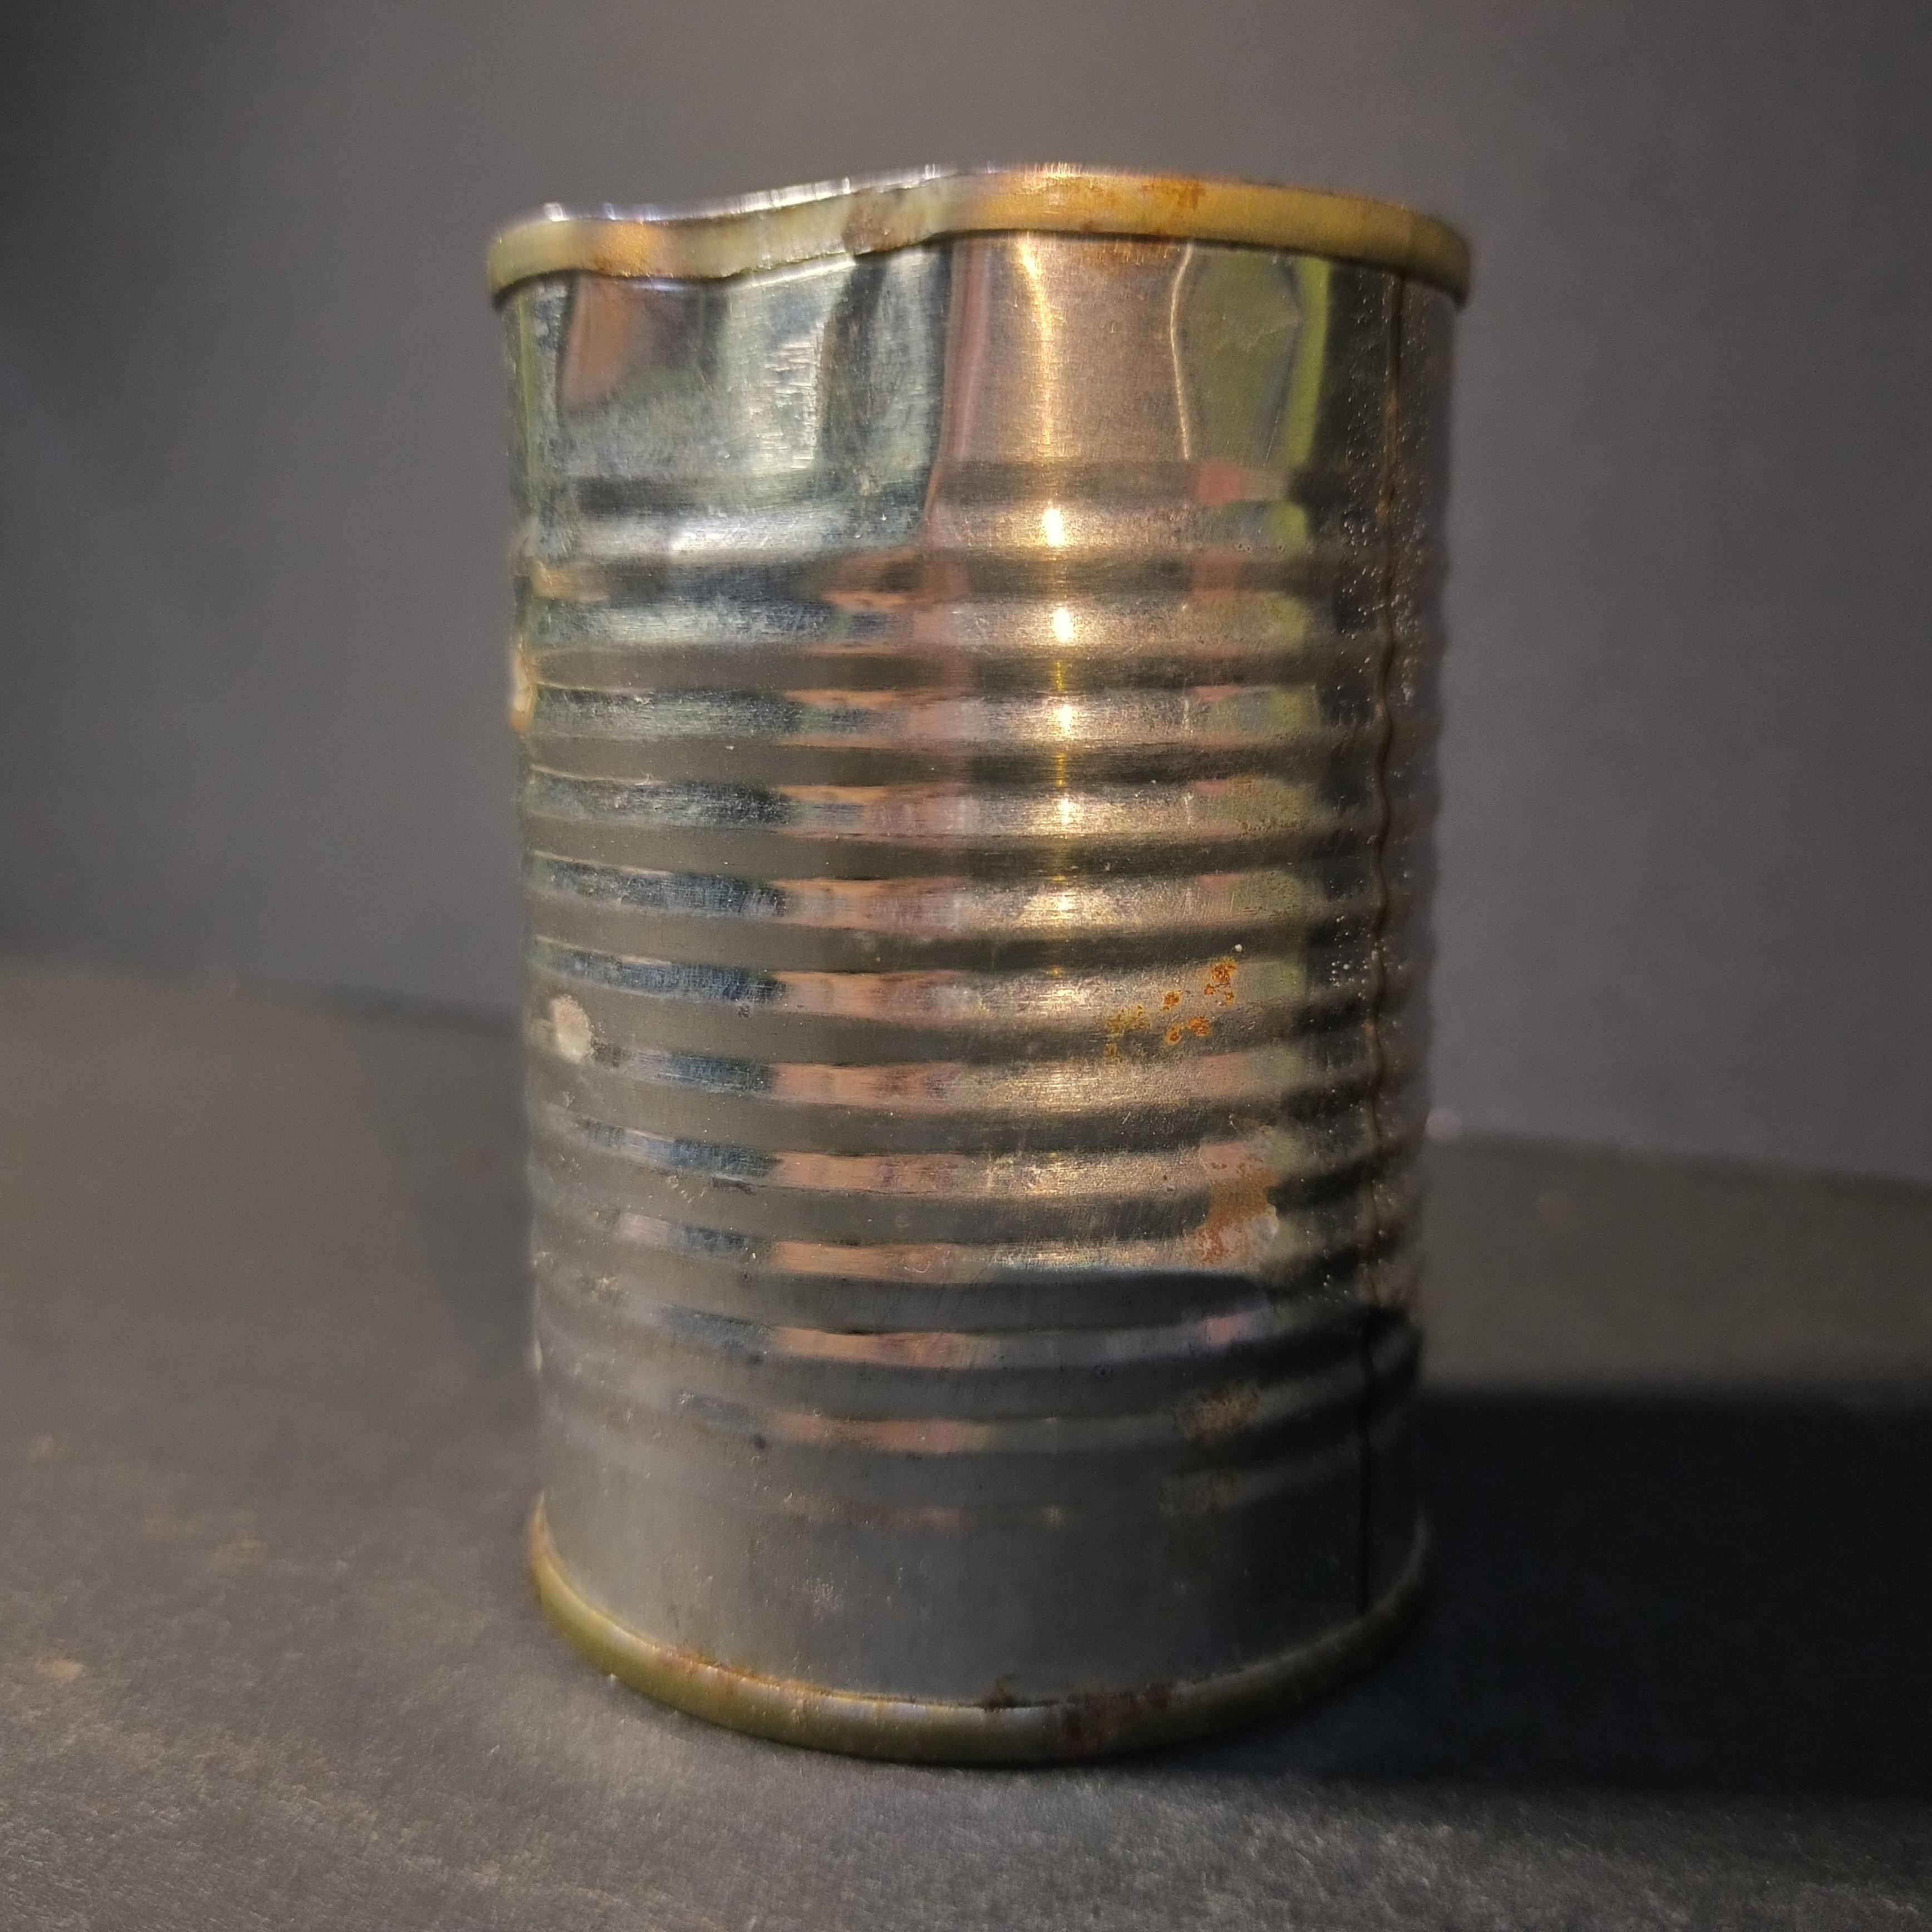Dented: (487, 131, 1502, 1778)
